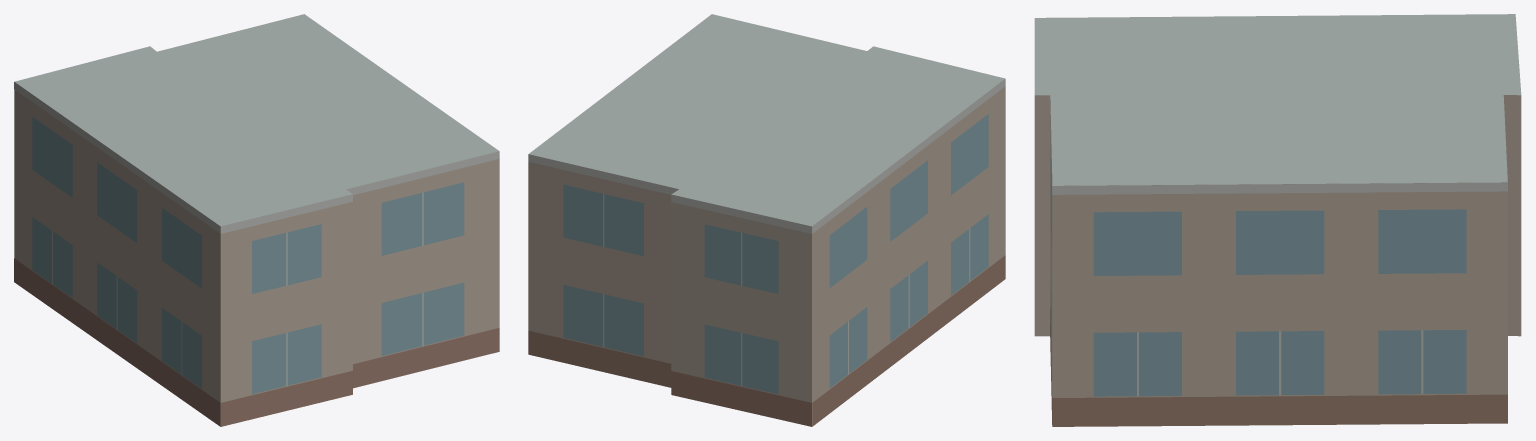
The model's file is survey-upis-32495105.glb.
The picture shows the model from 3 angles, left to right: view 1: azimuth 30°, elevation 25°; view 2: azimuth 150°, elevation 25°; view 3: azimuth 270°, elevation 25°; orthographic projection. The views are drawn at different scales.
Visible parts, largest first — view 1: survey-upis-32495105.tmp; view 2: survey-upis-32495105.tmp; view 3: survey-upis-32495105.tmp.
Part boxes in pixels (x1,y1,x2,y2): survey-upis-32495105.tmp: (14,14,499,426); survey-upis-32495105.tmp: (528,14,1005,426); survey-upis-32495105.tmp: (1034,14,1521,426).
Size of the model in its own units: 9.95 by 6.5 by 11.91.
